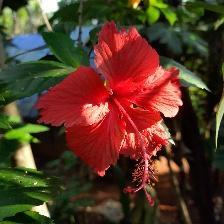hibiscus: (38, 20, 187, 205)
